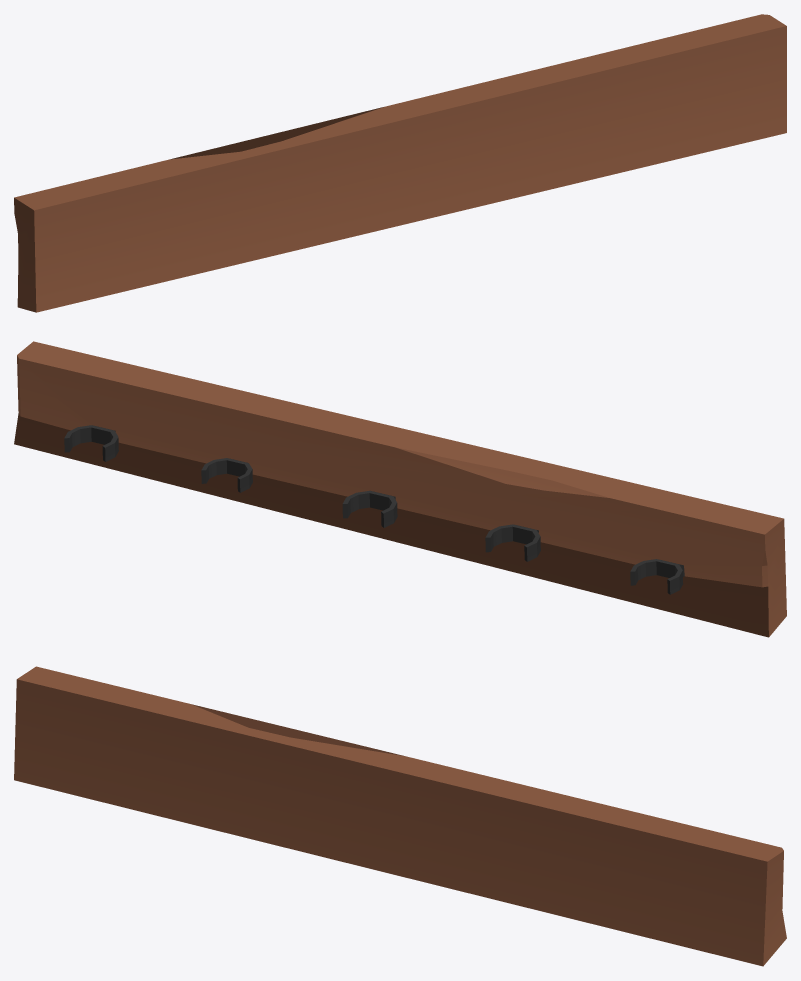
The model's file is WeaponHolder_004.fbx.
3 renders of one model, top to bottom at view 1: azimuth 30°, elevation 25°; view 2: azimuth 150°, elevation 25°; view 3: azimuth 330°, elevation 25°, orthographic.
Visible parts, largest first — view 1: WeaponHolder.004; view 2: WeaponHolder.004; view 3: WeaponHolder.004.
Part boxes in pixels (x1,y1,x2,y2): WeaponHolder.004: (14,14,786,312); WeaponHolder.004: (14,341,786,637); WeaponHolder.004: (14,666,786,966).
Size of the model in its own units: 4.7 by 0.644 by 0.5496.
